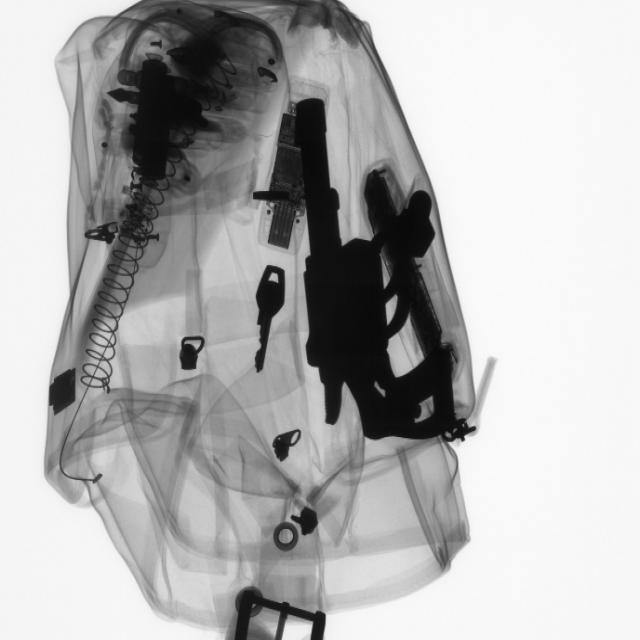GUN: (298, 99, 446, 447)
